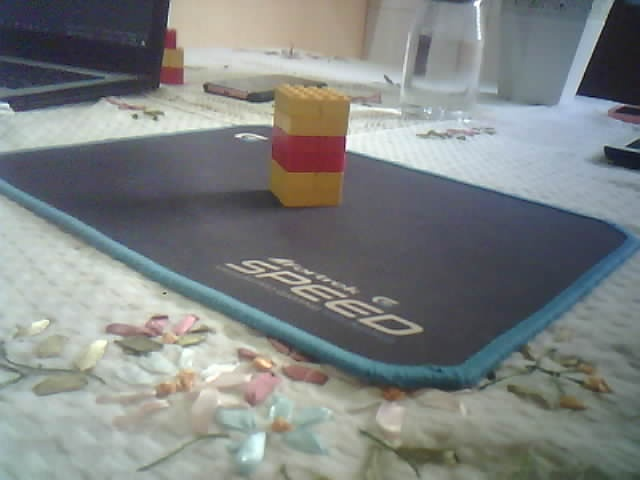lego: (267, 85, 351, 208), (158, 28, 185, 86)
